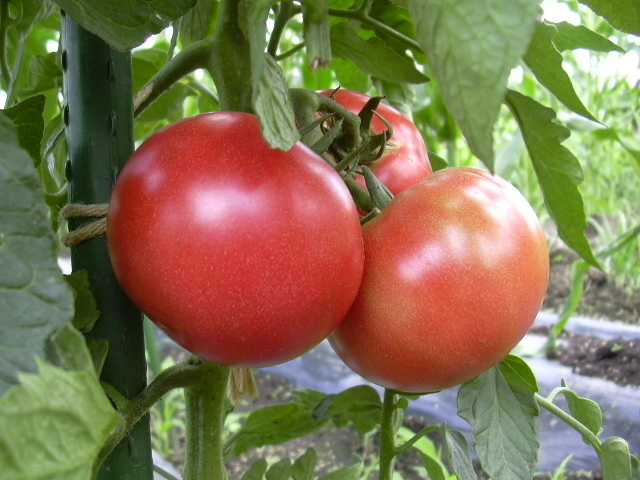stems: (317, 91, 368, 152), (328, 156, 380, 212)
tomato: (104, 111, 363, 370), (327, 166, 549, 393), (259, 88, 436, 221)
